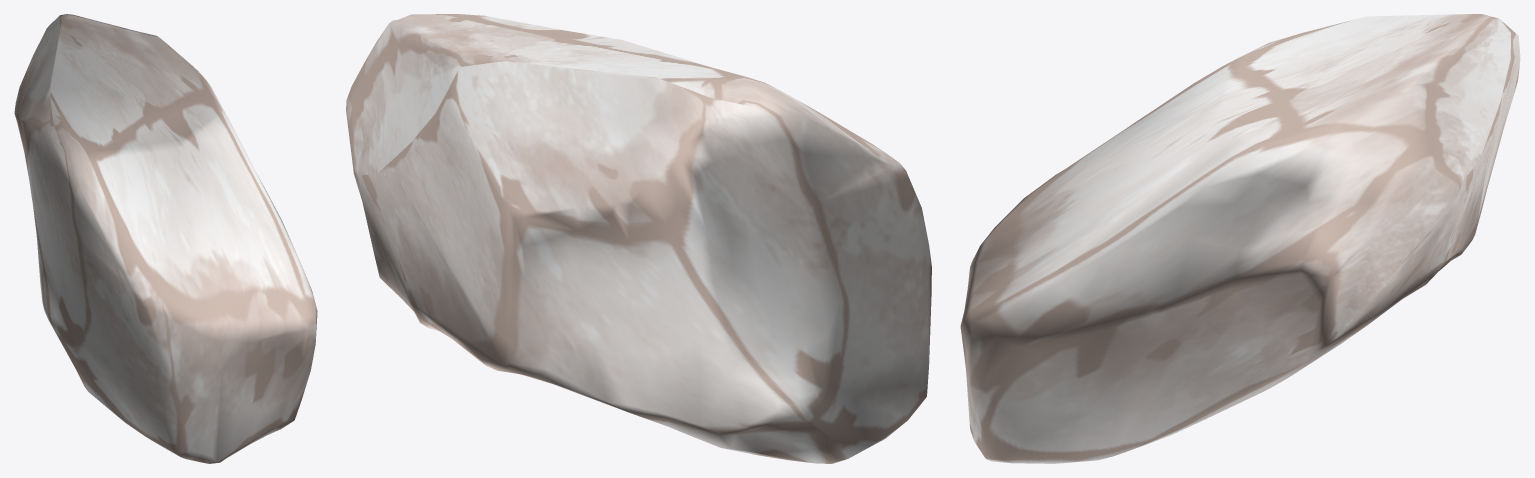
Rendered from Rock_1.FBX.
The picture shows the model from 3 angles, left to right: view 1: azimuth 30°, elevation 25°; view 2: azimuth 150°, elevation 25°; view 3: azimuth 270°, elevation 25°; orthographic projection. The views are drawn at different scales.
Visible parts, largest first — view 1: Rock_1; view 2: Rock_1; view 3: Rock_1.
Part boxes in pixels (<box>): Rock_1: <box>14,14,317,463</box>; Rock_1: <box>346,14,931,463</box>; Rock_1: <box>960,14,1520,463</box>.
Bounding box in the file's own units: 25.83 × 37.32 × 43.18.
